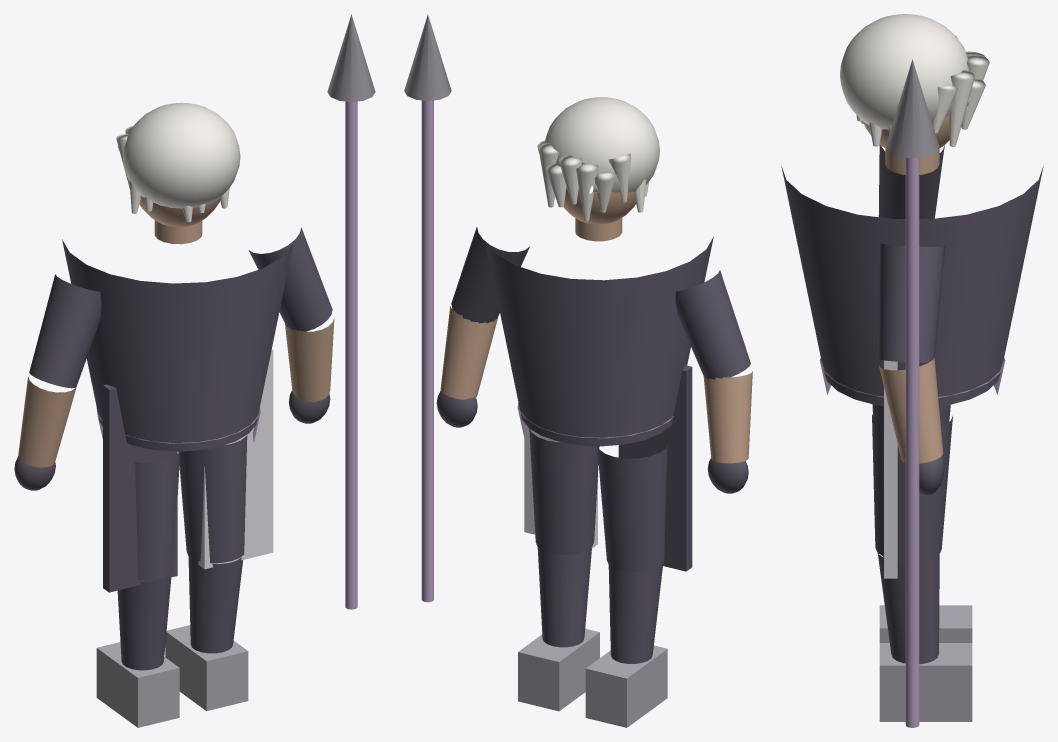
The model's file is boksonga-procedural-v1.glb.
3 views of the same model, side by side, from view 1: azimuth 30°, elevation 25°; view 2: azimuth 150°, elevation 25°; view 3: azimuth 270°, elevation 25° (orthographic). The views are drawn at different scales.
Visible parts, largest first — view 1: Outfit_Torso, Hair_Cap, Outfit_CoatTail_L, Body_Thigh_R, Weapon_SpearShaft, Body_UpperArm_L, Outfit_CoatTail_R, Outfit_Boot_L, Body_Thigh_L, Outfit_Boot_R, Body_Shin_R, Body_Shin_L (+8 smaller); view 2: Outfit_Torso, Body_Thigh_L, Body_Thigh_R, Hair_Cap, Weapon_SpearShaft, Outfit_CoatTail_L, Body_UpperArm_L, Outfit_Boot_L, Outfit_Boot_R, Body_Shin_R, Body_Shin_L, Body_Forearm_L (+12 smaller); view 3: Outfit_Torso, Hair_Cap, Weapon_SpearShaft, Outfit_Boot_R, Body_UpperArm_R, Body_Thigh_R, Body_Shin_R, Body_Forearm_R, Weapon_SpearHead, Outfit_CoatTail_R, Body_UpperArm_L, Outfit_Boot_L (+8 smaller).
Boxes of the visible parts, left/top/right/bottom form: Outfit_Torso: left=62, top=239, right=293, bottom=451; Hair_Cap: left=123, top=102, right=240, bottom=208; Outfit_CoatTail_L: left=103, top=384, right=177, bottom=592; Body_Thigh_R: left=178, top=435, right=247, bottom=563; Weapon_SpearShaft: left=345, top=101, right=357, bottom=609; Body_UpperArm_L: left=29, top=274, right=101, bottom=388; Outfit_CoatTail_R: left=198, top=349, right=273, bottom=569; Outfit_Boot_L: left=96, top=642, right=179, bottom=727; Body_Thigh_L: left=135, top=451, right=180, bottom=580; Outfit_Boot_R: left=165, top=625, right=248, bottom=711; Body_Shin_R: left=188, top=556, right=242, bottom=653; Body_Shin_L: left=117, top=574, right=171, bottom=670; Outfit_Torso: left=485, top=237, right=713, bottom=446; Body_Thigh_L: left=597, top=445, right=667, bottom=571; Body_Thigh_R: left=529, top=428, right=599, bottom=554; Hair_Cap: left=545, top=97, right=659, bottom=192; Weapon_SpearShaft: left=421, top=100, right=433, bottom=602; Outfit_CoatTail_L: left=618, top=365, right=692, bottom=571; Body_UpperArm_L: left=675, top=270, right=750, bottom=379; Outfit_Boot_L: left=585, top=645, right=667, bottom=727; Outfit_Boot_R: left=518, top=628, right=599, bottom=711; Body_Shin_R: left=537, top=547, right=591, bottom=647; Body_Shin_L: left=608, top=564, right=662, bottom=663; Body_Forearm_L: left=703, top=371, right=752, bottom=463; Outfit_Torso: left=781, top=166, right=1043, bottom=406; Hair_Cap: left=840, top=14, right=968, bottom=129; Weapon_SpearShaft: left=905, top=157, right=919, bottom=727; Outfit_Boot_R: left=879, top=643, right=972, bottom=721; Body_UpperArm_R: left=878, top=243, right=945, bottom=362; Body_Thigh_R: left=872, top=414, right=952, bottom=561; Body_Shin_R: left=877, top=553, right=939, bottom=664; Body_Forearm_R: left=879, top=357, right=943, bottom=463; Weapon_SpearHead: left=885, top=59, right=939, bottom=158; Outfit_CoatTail_R: left=884, top=360, right=897, bottom=578; Body_UpperArm_L: left=878, top=144, right=944, bottom=218; Outfit_Boot_L: left=879, top=605, right=972, bottom=642.
Size of the model in its own units: 1.15 by 2.04 by 0.6685.
